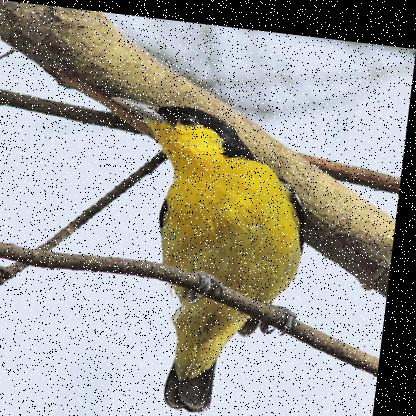Burung: (86, 93, 321, 413)
